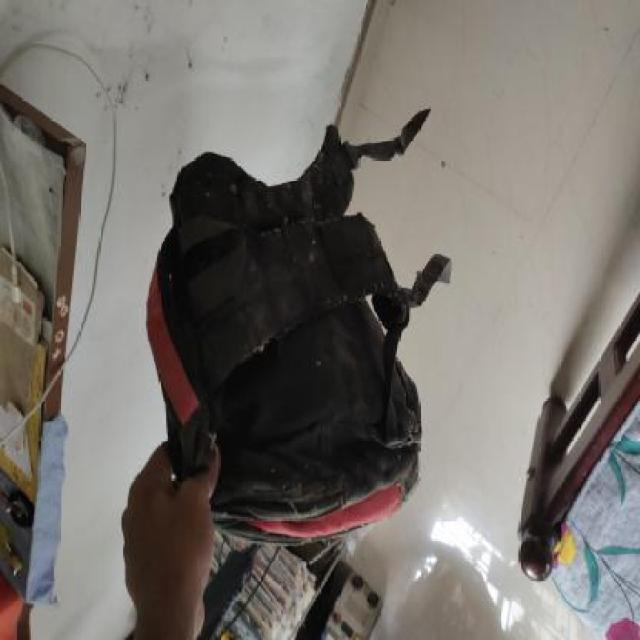backpack: (141, 103, 454, 554)
